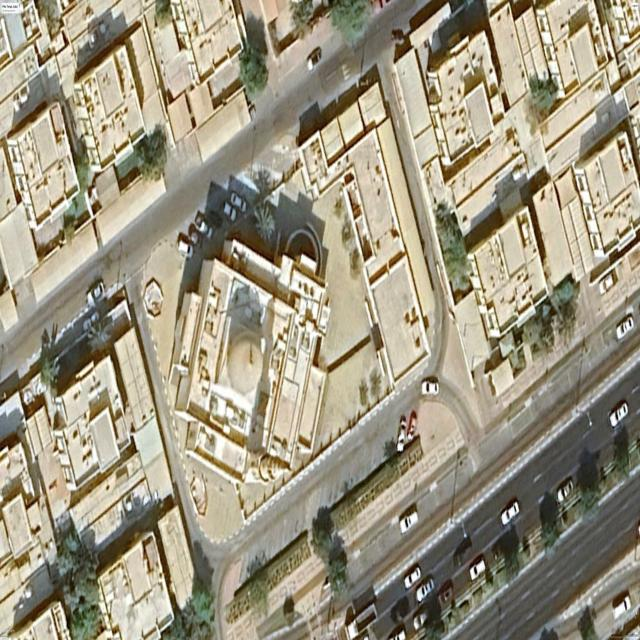mosque: (170, 239, 332, 489)
